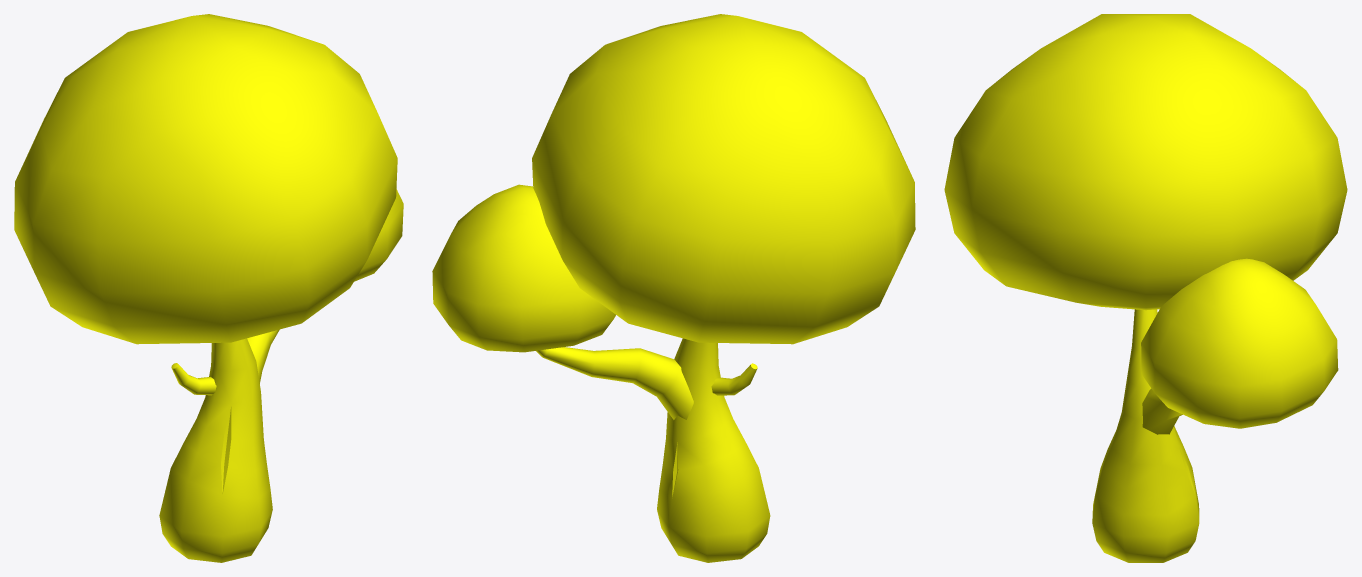
The model's file is kaykit-tree-1-b-color-1.glb.
The picture shows the model from 3 angles, left to right: view 1: azimuth 30°, elevation 25°; view 2: azimuth 150°, elevation 25°; view 3: azimuth 270°, elevation 25°; orthographic projection.
Visible parts, largest first — view 1: Tree_1_B_Color1; view 2: Tree_1_B_Color1; view 3: Tree_1_B_Color1.
Boxes of the visible parts, <box> form: Tree_1_B_Color1: <box>14,14,403,562</box>; Tree_1_B_Color1: <box>432,14,915,562</box>; Tree_1_B_Color1: <box>944,14,1347,562</box>.
Bounding box in the file's own units: 4.01 × 4.93 × 3.45.
